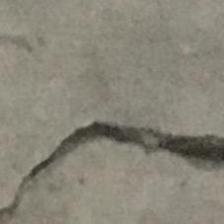Crack: (0, 110, 224, 211)
